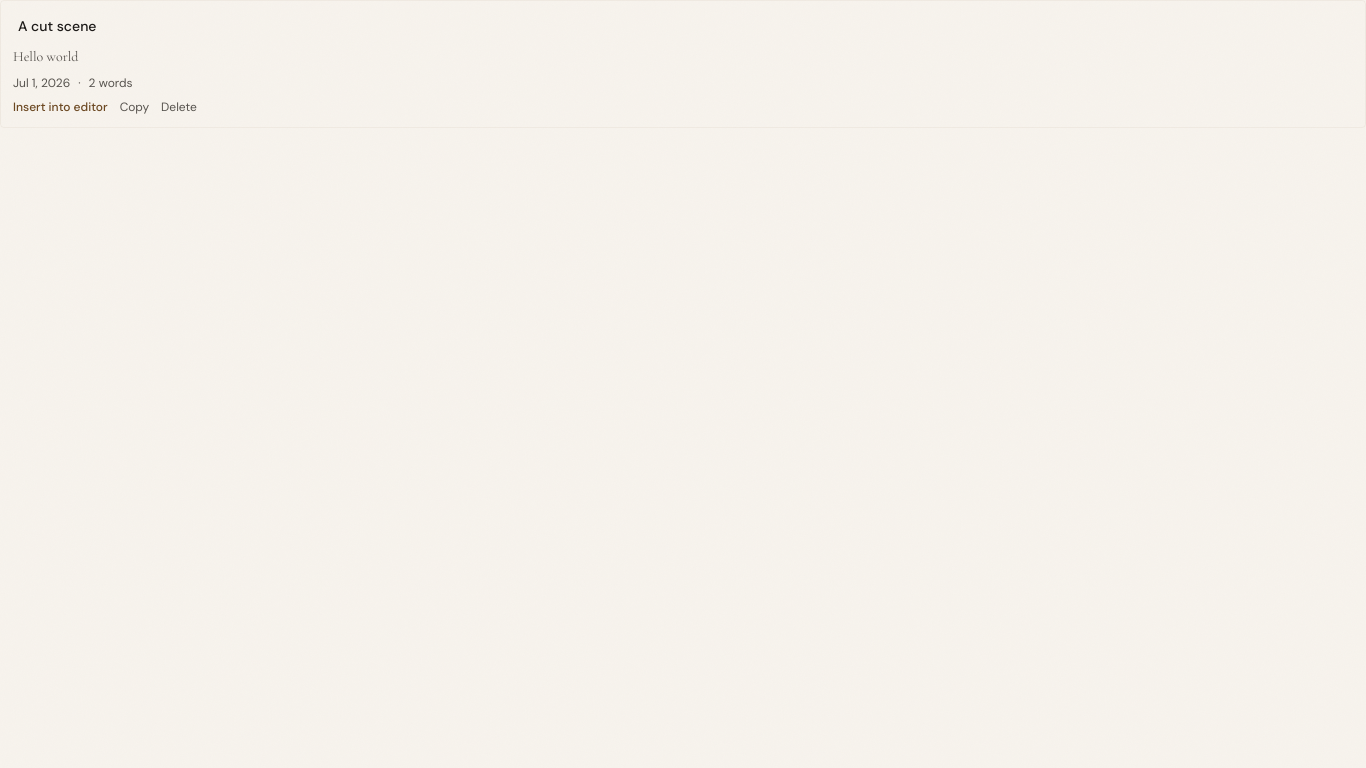
Test: OuttakeCard › does not delete when the confirm dialog is cancelled
Click the button "Delete".
click(179, 107)  # box top-left (161, 99), bottom-right (197, 115)
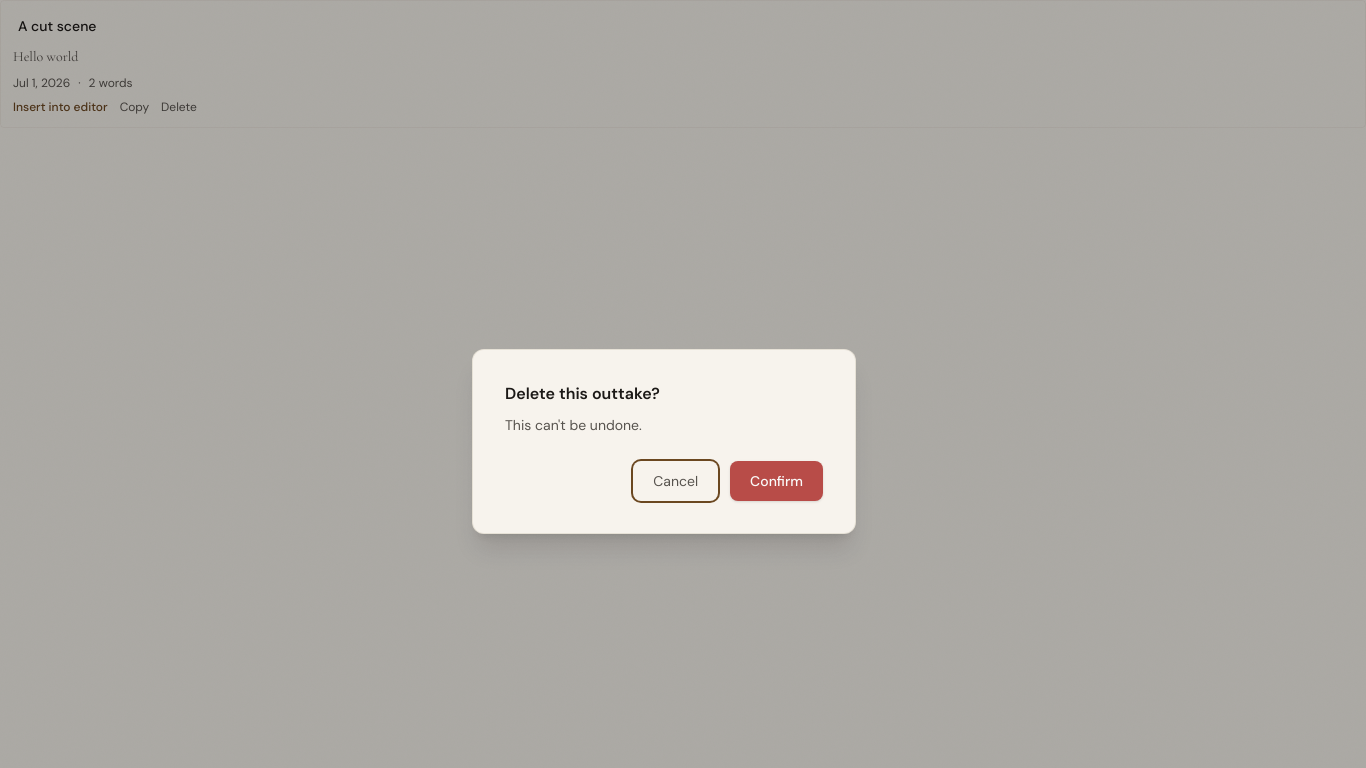
Click the button "Cancel".
click(676, 481)  # box top-left (633, 461), bottom-right (718, 501)
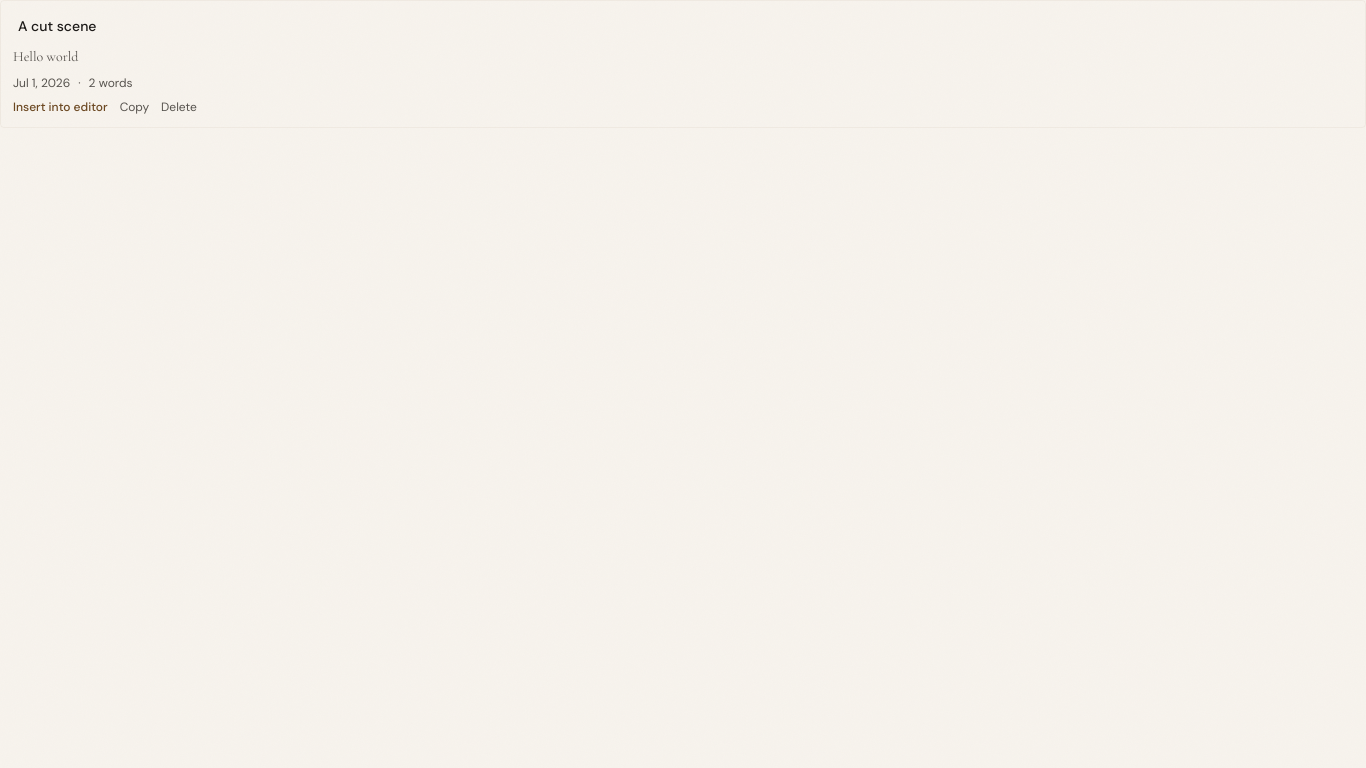
Now the text "Delete this outtake?" is gone
